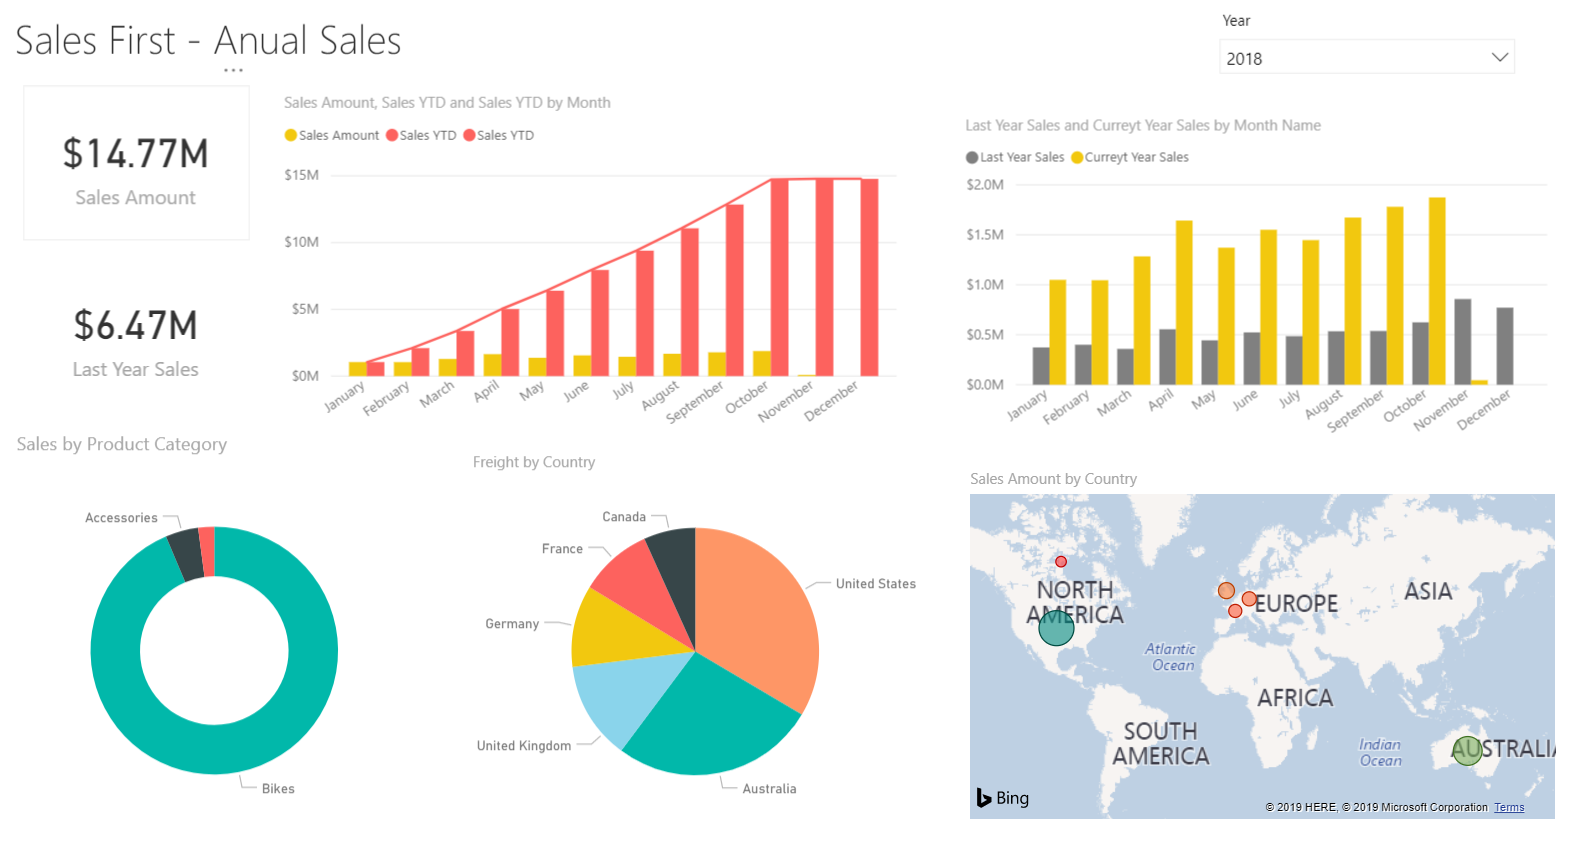

What the dashboard file says about the page in this screenshot:
{"tool":"powerbi","page":{"name":"Sales by Year","canvas":[1280,720],"ordinal":0},"visuals":[{"type":"map","fields":{"Size":["Sum(Sales.SalesAmount)"],"Category":["SalesTerritory.Country"]},"box":[787,384.8,481.9,329.1],"z":8},{"type":"pieChart","fields":{"Category":["SalesTerritory.Country"],"Y":["Sum(Sales.Freight)"]},"box":[379.1,384.8,368.7,325],"z":9},{"type":"kpi","title":"Sales and Last Year Sales by Year","fields":{"Indicator":["Sum(Sales.SalesAmount)"],"Goal":["Sales.LastYearSales"],"TrendLine":["Date.Year"]},"box":[10.4,101.7,230,146.8],"z":10},{"type":"lineClusteredColumnComboChart","fields":{"Category":["Date.MonthName"],"Y":["Sum(Sales.SalesAmount)","Sales.Sales_YTD"],"Y2":["Sales.Sales_YTD"]},"box":[261.2,101.7,503.9,267],"z":1000},{"type":"slicer","fields":{"Values":["Date.Year"]},"box":[1009.2,6.5,260,84.4],"z":2000},{"type":"donutChart","fields":{"Category":["ProductCategory.EnglishProductCategoryName","ProductSubcategory.EnglishProductSubcategoryName","Product.EnglishProductName"],"Y":["Sum(Sales.SalesAmount)"]},"box":[10.4,384.8,329.4,324.1],"z":3000},{"type":"clusteredColumnChart","fields":{"Y":["Sales.LastYearSameMonthSales","Sum(Sales.SalesAmount)"],"Category":["Date.MonthName"]},"box":[783.7,101.7,479.7,268],"z":4000},{"type":"textbox","box":[10.4,6.5,331.7,52],"z":7000}]}

Visuals, with their boxes in screenshot pixels (x1, y1, x2, y2), scaled from the page's 1280x720 canvas onto the 1570x858 screenshot:
map - Sum(Sales.SalesAmount) x SalesTerritory.Country: 965, 459, 1556, 851
pieChart - SalesTerritory.Country x Sum(Sales.Freight): 465, 459, 917, 846
"Sales and Last Year Sales by Year" kpi: 13, 121, 295, 296
lineClusteredColumnComboChart - Date.MonthName x Sum(Sales.SalesAmount): 320, 121, 938, 439
slicer - Date.Year: 1238, 8, 1557, 108
donutChart - ProductCategory.EnglishProductCategoryName x ProductSubcategory.EnglishProductSubcategoryName: 13, 459, 417, 845
clusteredColumnChart - Sales.LastYearSameMonthSales x Sum(Sales.SalesAmount): 961, 121, 1550, 441
textbox: 13, 8, 420, 70
